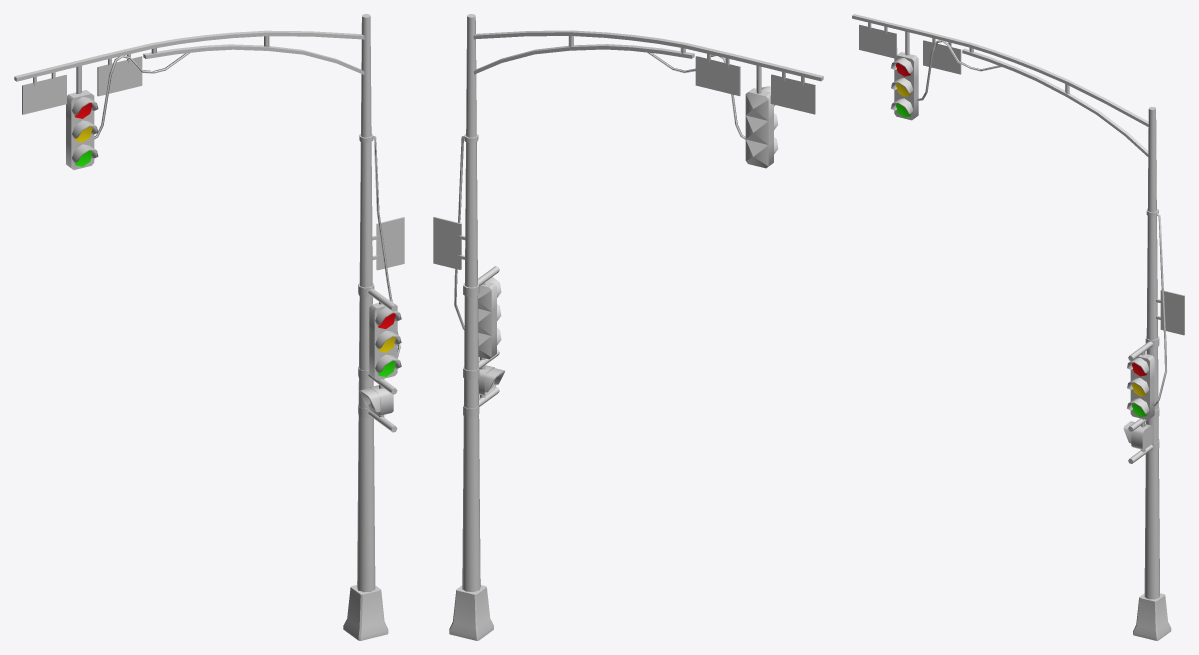
Rendered from poste9.fbx.
The picture shows the model from 3 angles, left to right: view 1: azimuth 30°, elevation 25°; view 2: azimuth 150°, elevation 25°; view 3: azimuth 330°, elevation 25°; orthographic projection. The views are drawn at different scales.
Parts seen in each view (by area): view 1: SP_TNR_TrafficLight_old_1_SP_TNR_TrafficLight_old_0; view 2: SP_TNR_TrafficLight_old_1_SP_TNR_TrafficLight_old_0; view 3: SP_TNR_TrafficLight_old_1_SP_TNR_TrafficLight_old_0.
Boxes of the visible parts, x1,y1,x2,y2 form: SP_TNR_TrafficLight_old_1_SP_TNR_TrafficLight_old_0: (14,14,404,640); SP_TNR_TrafficLight_old_1_SP_TNR_TrafficLight_old_0: (433,14,823,640); SP_TNR_TrafficLight_old_1_SP_TNR_TrafficLight_old_0: (852,14,1184,640).
Bounding box in the file's own units: 430 × 677 × 67.58.
